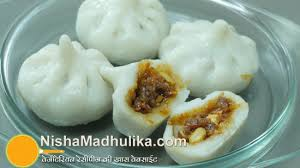modak: (11, 28, 123, 123), (155, 10, 270, 98), (72, 1, 170, 62)
